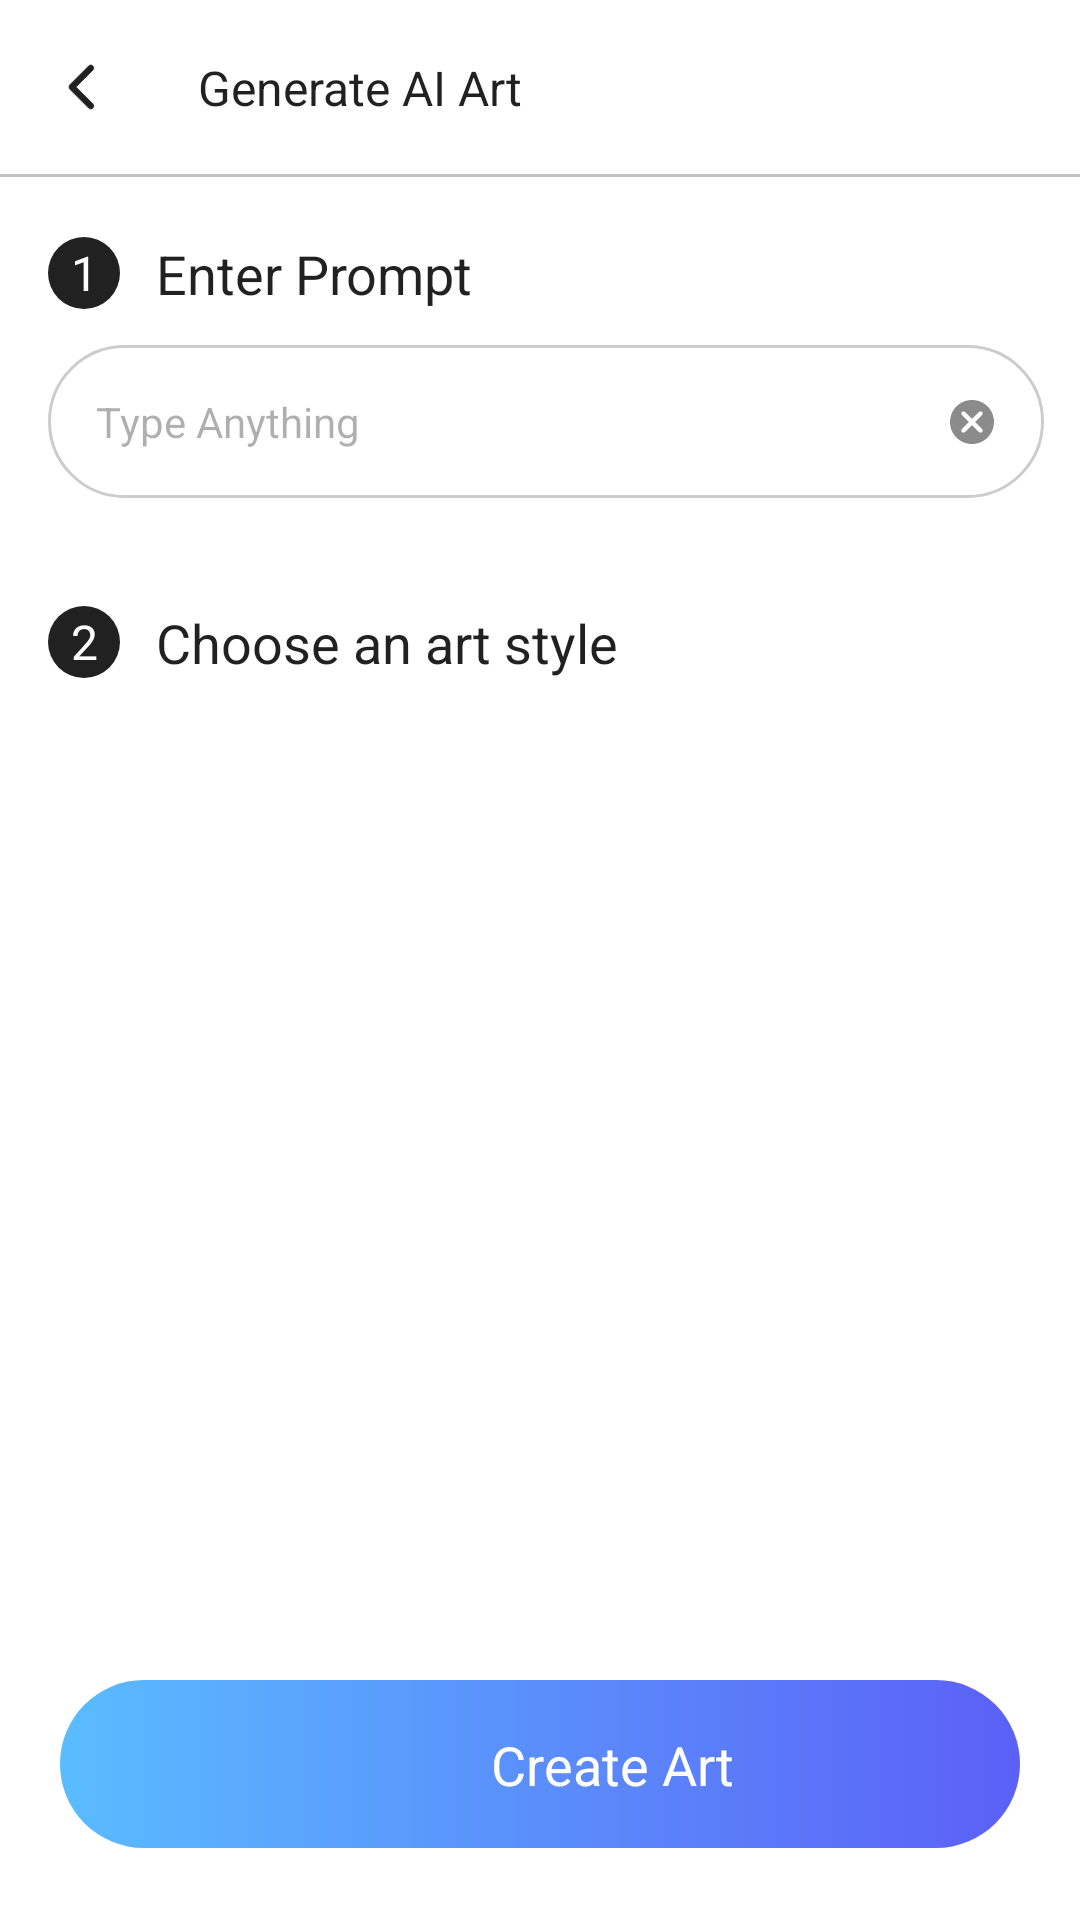

Where to tap for icons on this 1080×1920 app screen, as [x,y]:
clear text: [972,422]
